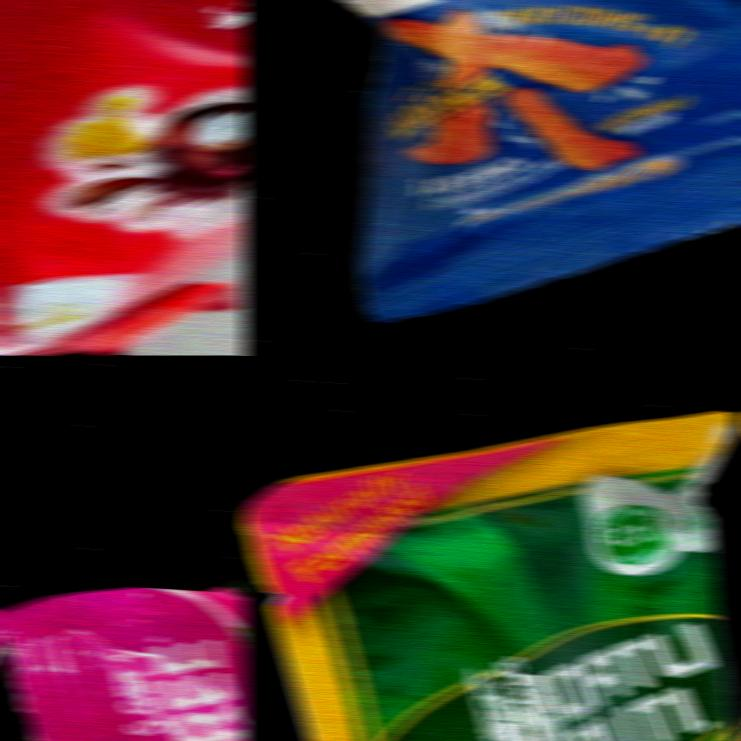Datu puti Suka: (240, 411, 738, 741)
cheezy: (339, 0, 741, 322)
moby chocolate: (0, 0, 247, 355)
palmolive soap: (0, 580, 248, 741)
